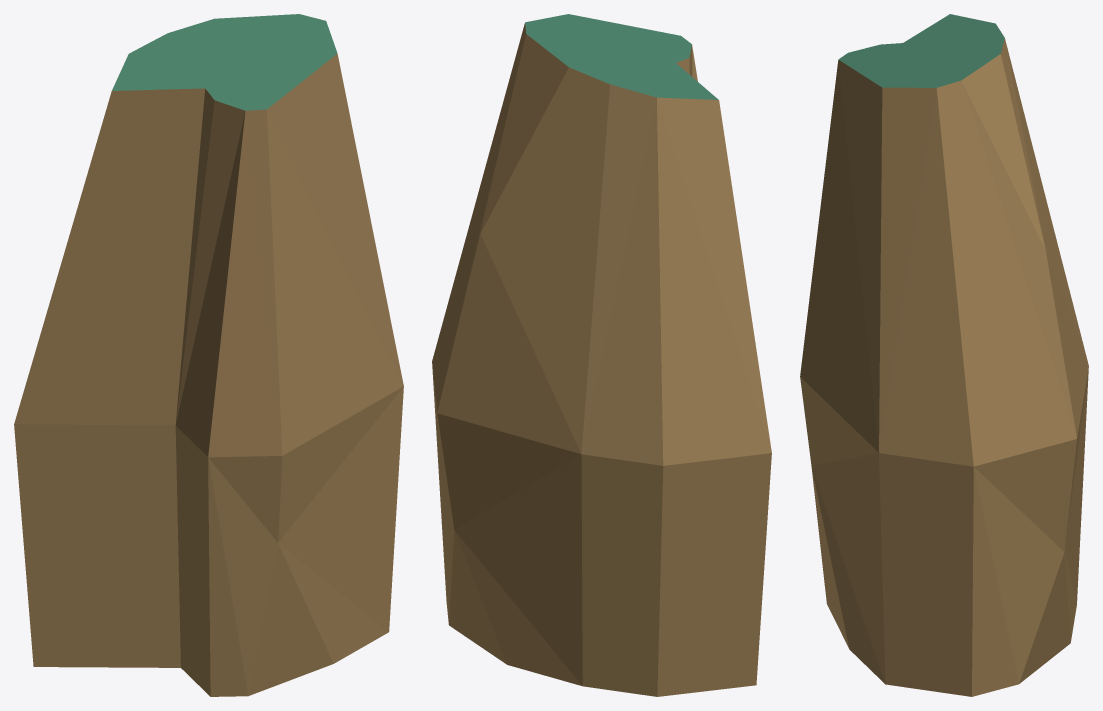
File: Rock_Large_Mesa_Eroded_Moss_Grass_08.FBX
The picture shows the model from 3 angles, left to right: view 1: azimuth 30°, elevation 25°; view 2: azimuth 150°, elevation 25°; view 3: azimuth 270°, elevation 25°; orthographic projection. The views are drawn at different scales.
Parts seen in each view (by area): view 1: Rock_Large_Mesa_Eroded_Moss_Grass_08; view 2: Rock_Large_Mesa_Eroded_Moss_Grass_08; view 3: Rock_Large_Mesa_Eroded_Moss_Grass_08.
Boxes of the visible parts, x1,y1,x2,y2 form: Rock_Large_Mesa_Eroded_Moss_Grass_08: [14, 14, 403, 696]; Rock_Large_Mesa_Eroded_Moss_Grass_08: [432, 14, 771, 696]; Rock_Large_Mesa_Eroded_Moss_Grass_08: [800, 14, 1088, 696].
Size of the model in its own units: 5902 by 9412 by 4246.
